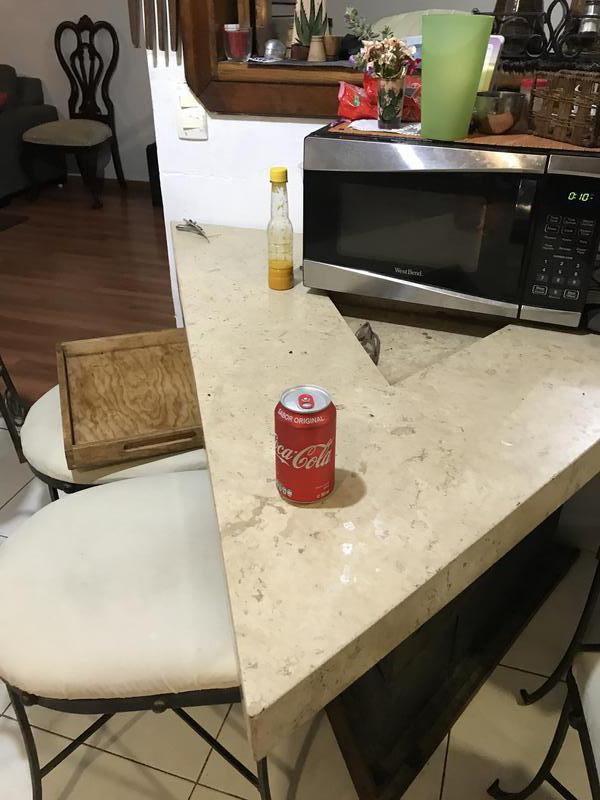coca_cola: (274, 385, 339, 504)
